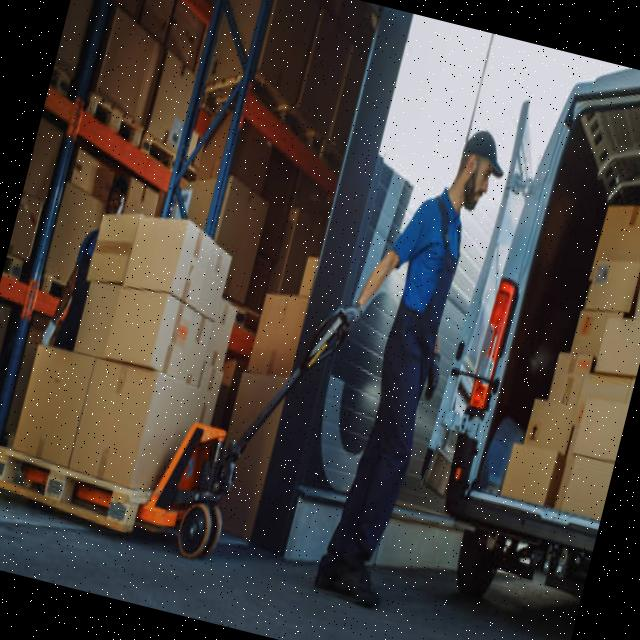Wooden-Pallets: (0, 445, 150, 537), (81, 93, 143, 155)
